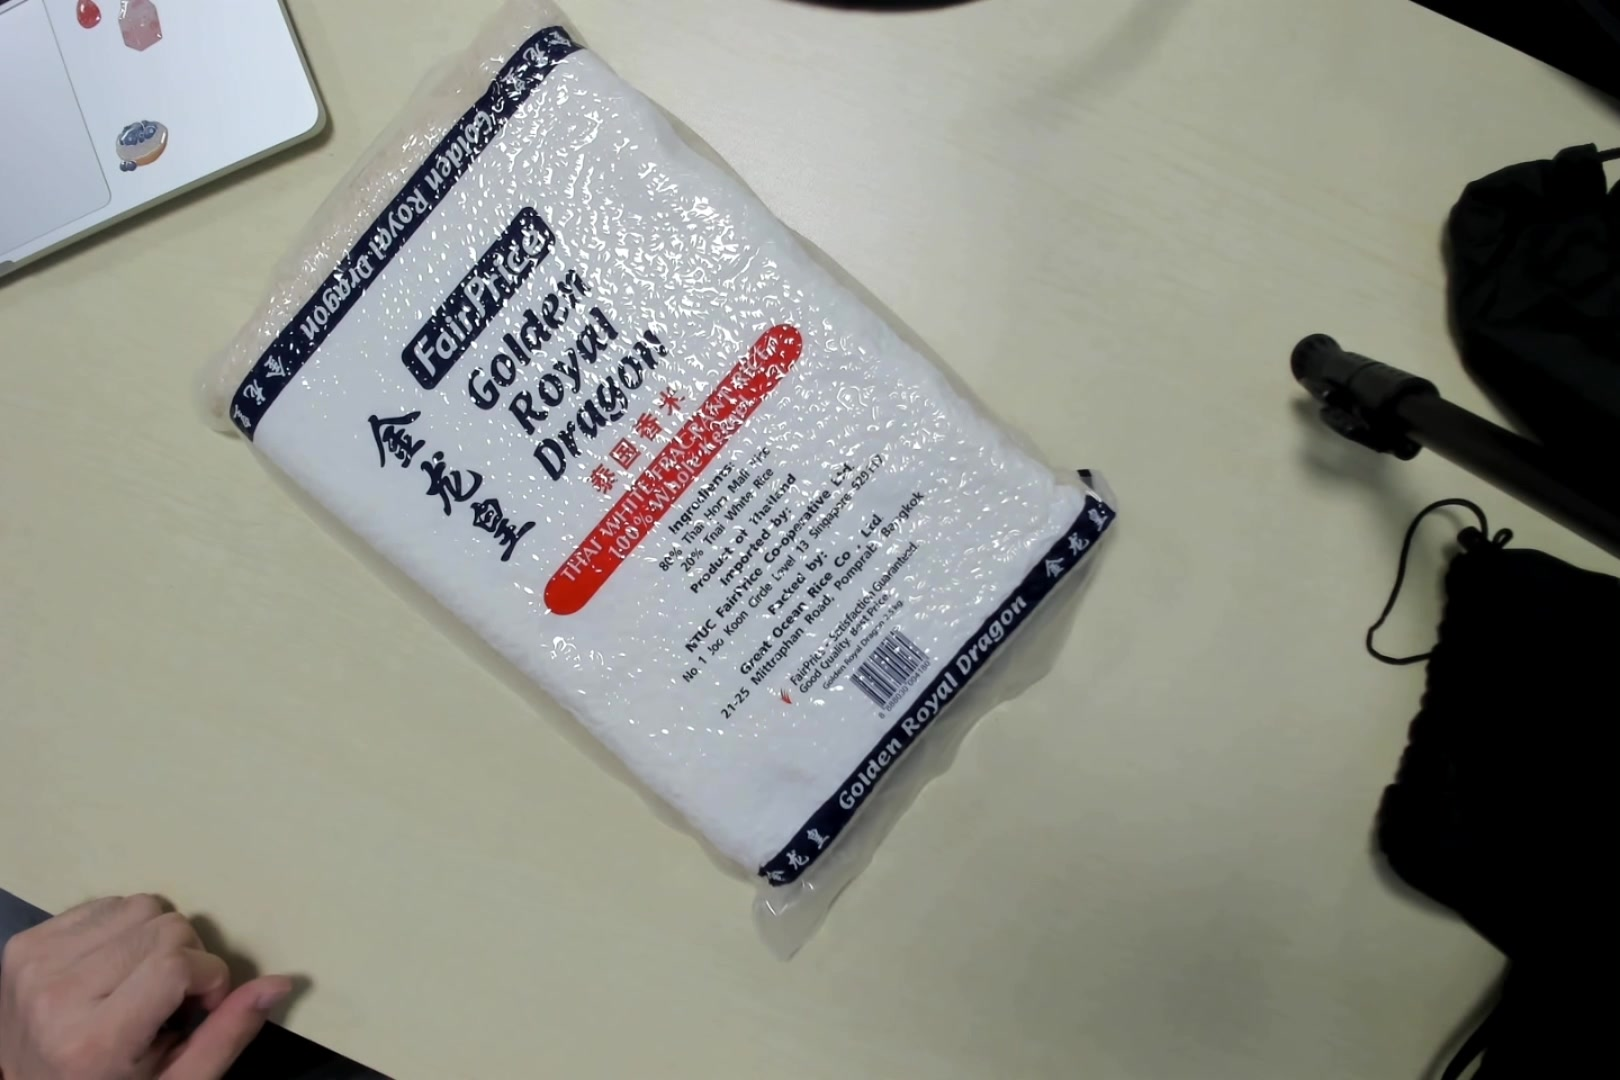Rice(White)_2000-2999g_NonHalal_NonHealthy: (235, 18, 1117, 904)
